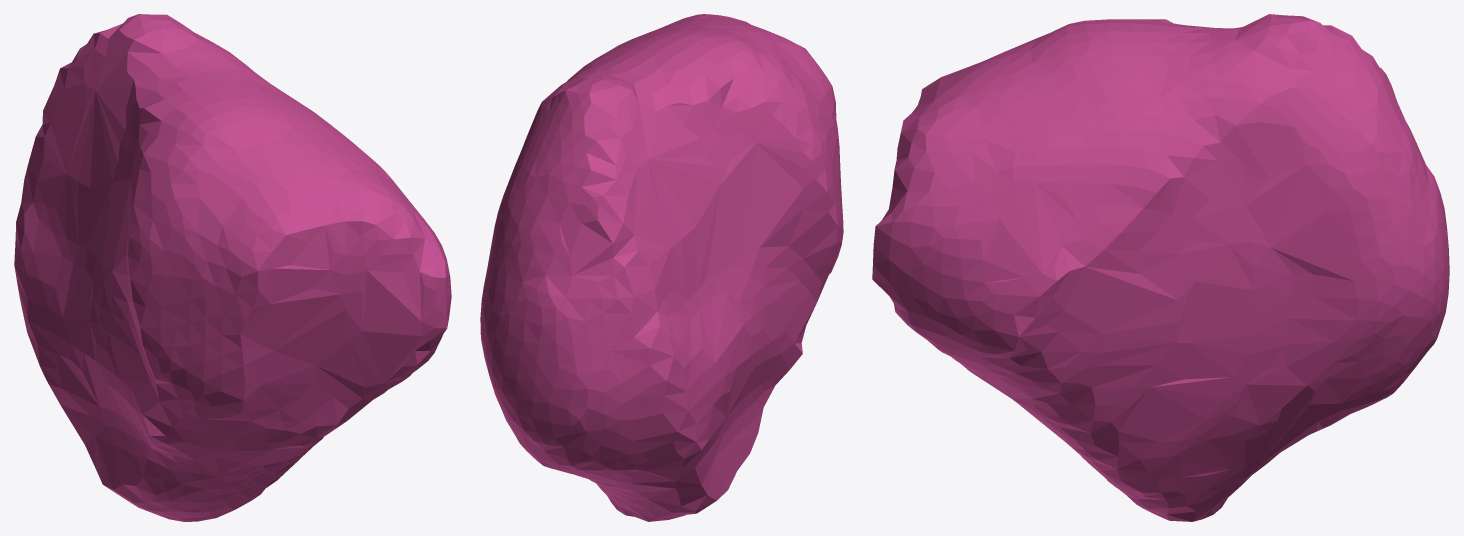
The model's file is Model_205_RH__Basomedial_amygdaloid_nucleus__magnocellular_part_(BMMC).obj.
The picture shows the model from 3 angles, left to right: view 1: azimuth 30°, elevation 25°; view 2: azimuth 150°, elevation 25°; view 3: azimuth 270°, elevation 25°; orthographic projection. The views are drawn at different scales.
Size of the model in its own units: 1.4 by 2.16 by 2.29.
